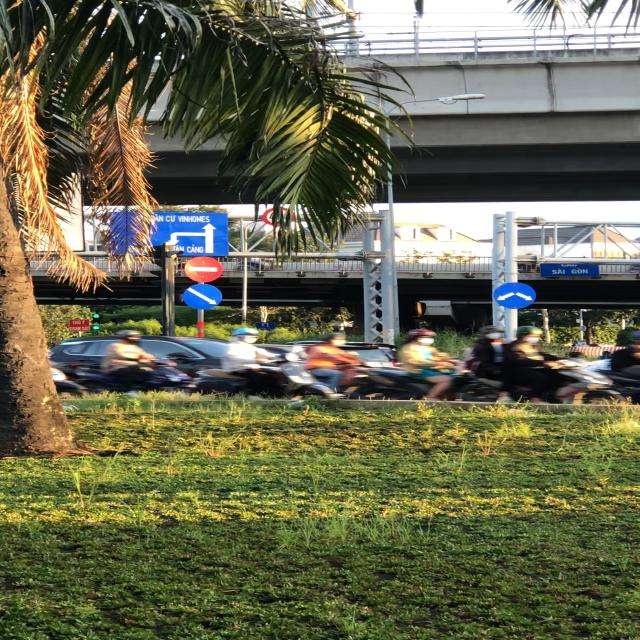Bien bao cam di nguoc chieu: (180, 253, 226, 281)
